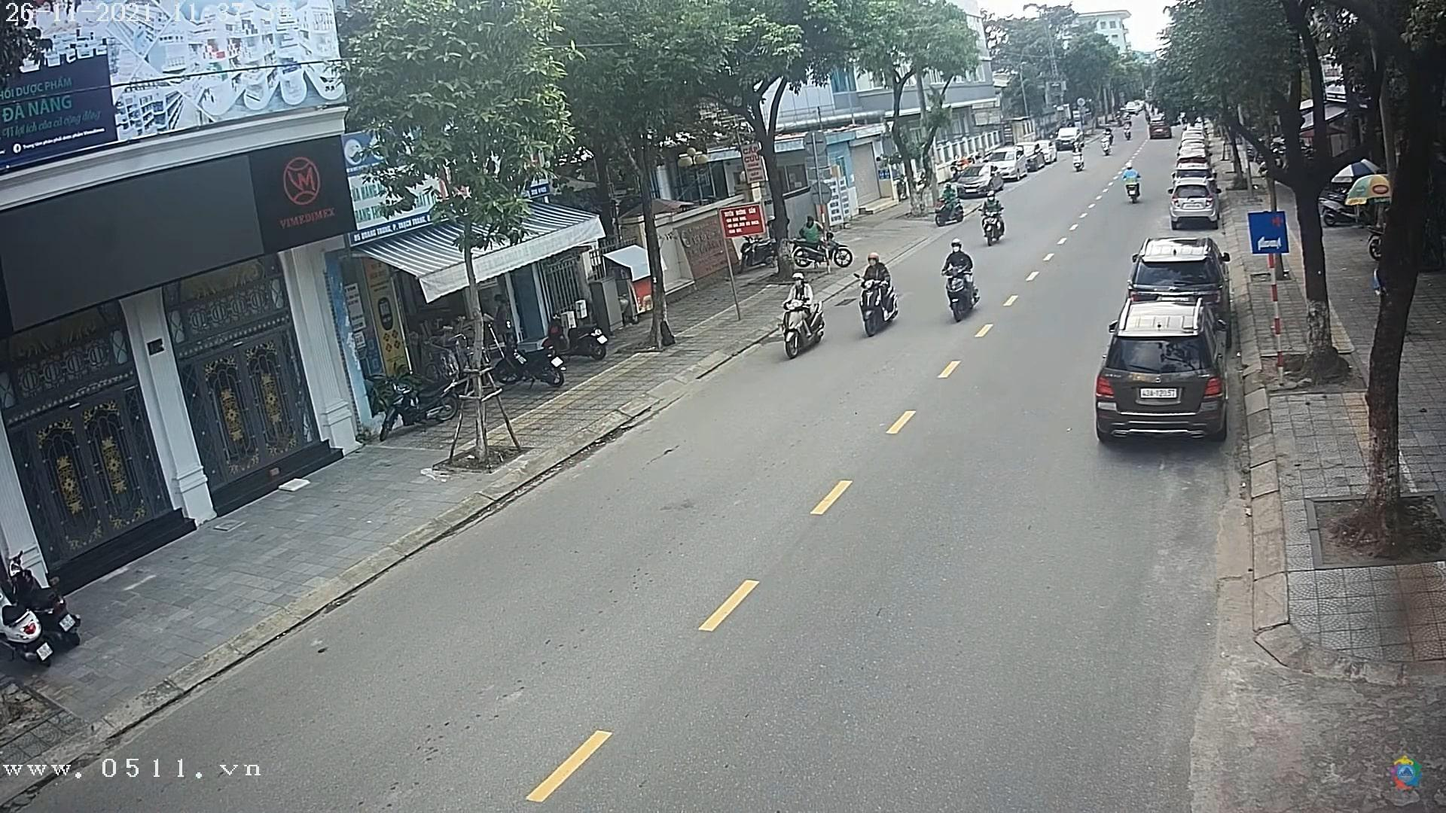motorbike: (780, 292, 830, 365), (853, 273, 907, 339), (944, 273, 981, 321), (1124, 168, 1146, 201)
